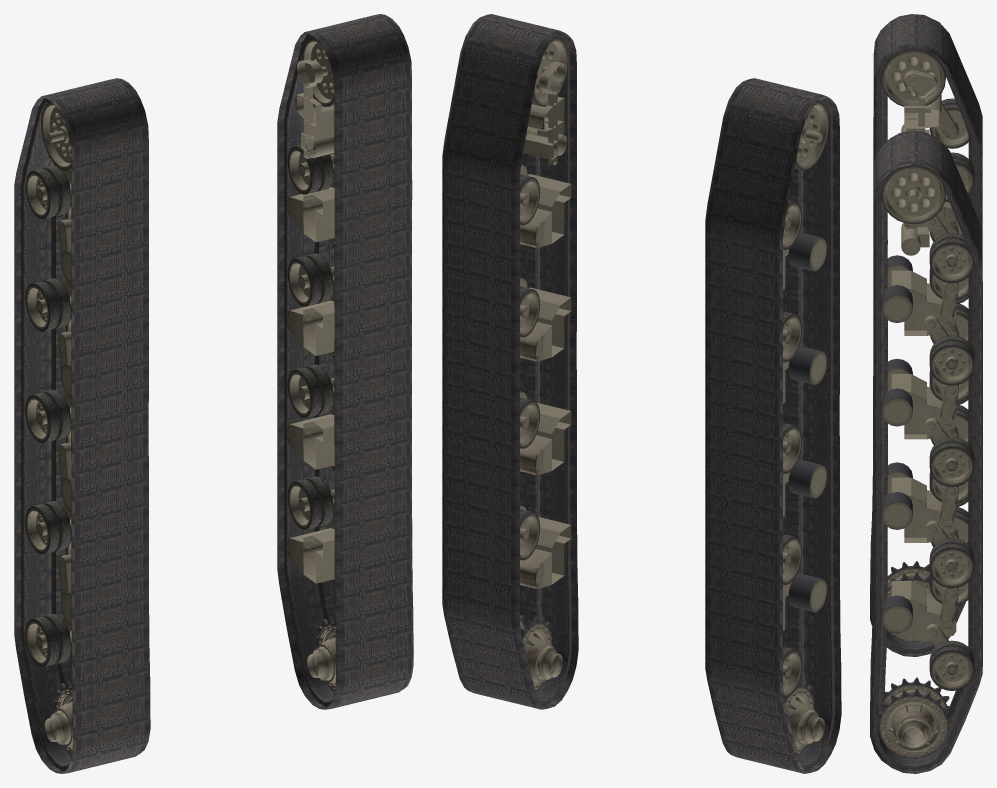
Rendered from Chassis.glb.
3 renders of one model, left to right at view 1: azimuth 30°, elevation 25°; view 2: azimuth 150°, elevation 25°; view 3: azimuth 270°, elevation 25°, orthographic. The views are drawn at different scales.
Visible parts, largest first — view 1: set_0_group_0, set_1_group_0, set_3_group_0, set_5_group_0; view 2: set_0_group_0, set_1_group_0, set_3_group_0, set_5_group_0; view 3: set_3_group_0, set_1_group_0, set_5_group_0, set_0_group_0, set_2_group_0.
Part boxes in pixels (x1,y1,x2,y2): set_0_group_0: [14, 78, 150, 773]; set_1_group_0: [277, 14, 413, 709]; set_3_group_0: [287, 37, 335, 692]; set_5_group_0: [25, 102, 72, 755]; set_0_group_0: [705, 78, 841, 773]; set_1_group_0: [442, 14, 578, 709]; set_3_group_0: [520, 37, 571, 691]; set_5_group_0: [783, 101, 828, 755]; set_3_group_0: [878, 166, 974, 758]; set_1_group_0: [870, 131, 982, 773]; set_5_group_0: [881, 49, 974, 642]; set_0_group_0: [870, 14, 982, 656]; set_2_group_0: [927, 525, 948, 544].
Bounding box in the file's own units: 3.6 × 6.75 × 1.13.
6 materials, 6 textured.
